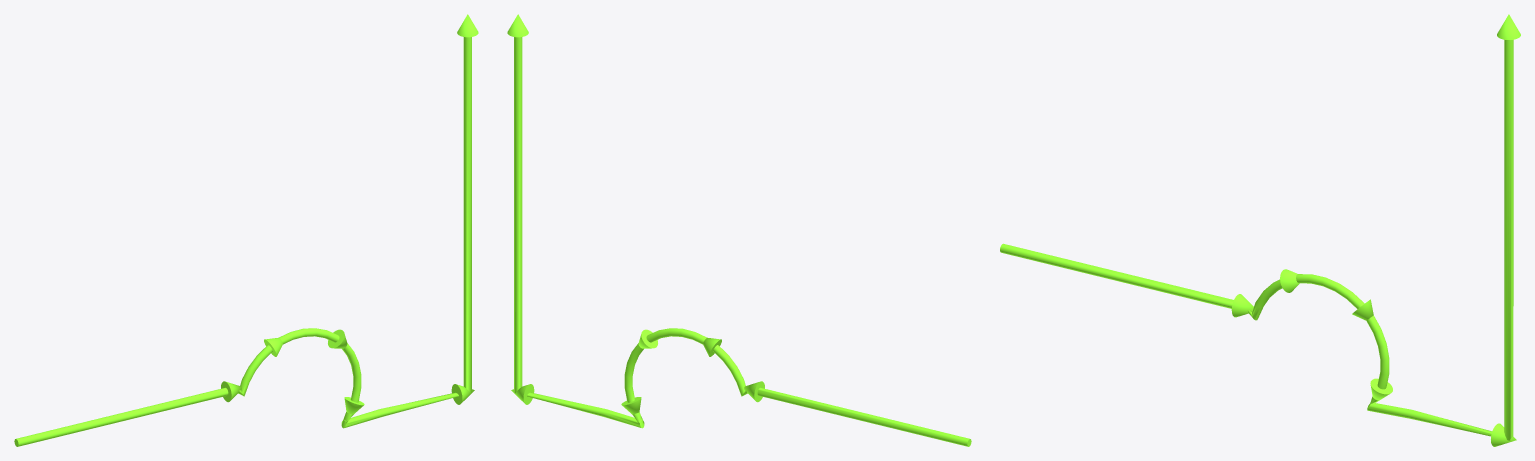
Rendered from rotary_vane_compressor_flow.glb.
3 renders of one model, left to right at view 1: azimuth 30°, elevation 25°; view 2: azimuth 150°, elevation 25°; view 3: azimuth 330°, elevation 25°, orthographic. The views are drawn at different scales.
Visible parts, largest first — view 1: air; view 2: air; view 3: air.
Part boxes in pixels (x1,y1,x2,y2): air: [14, 14, 478, 446]; air: [507, 14, 971, 446]; air: [1000, 14, 1520, 446].
Size of the model in its own units: 0.8982 by 0.7222 by 0.0364.
